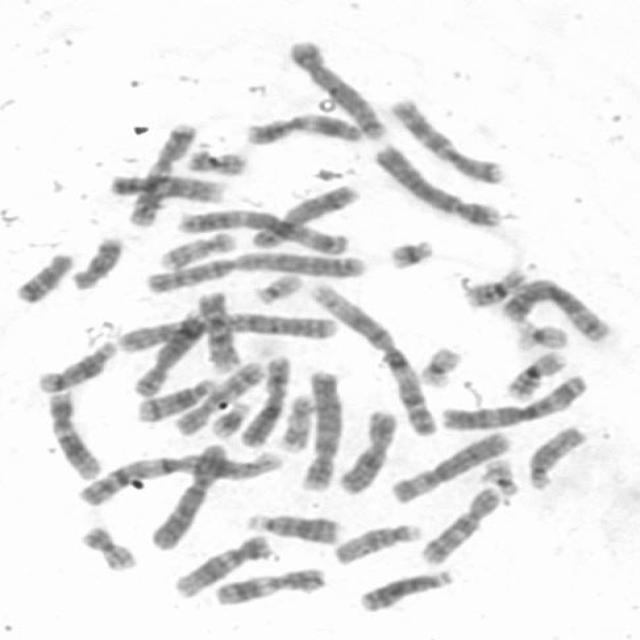A1: (302, 275, 438, 438), (71, 445, 285, 509)
A2: (142, 249, 368, 294), (113, 312, 341, 356)
A3: (436, 369, 590, 432), (171, 204, 352, 257)
B4: (368, 138, 504, 228), (295, 364, 345, 494)
B5: (285, 33, 387, 141), (495, 275, 614, 345)
C10: (168, 356, 264, 438), (415, 481, 504, 566)
C11: (211, 564, 328, 606), (240, 110, 367, 146)
C12: (167, 530, 273, 600), (44, 389, 106, 482)
C6: (386, 425, 516, 505), (142, 436, 229, 550)
C7: (386, 92, 508, 185), (123, 117, 200, 229)
C8: (246, 180, 361, 250), (125, 306, 206, 398)
C9: (101, 169, 228, 205), (194, 286, 242, 372)
D13: (352, 566, 456, 614), (241, 508, 342, 544)
D14: (34, 335, 120, 394), (132, 373, 220, 423)
D15: (521, 421, 590, 492), (327, 517, 424, 566)
E16: (499, 346, 568, 402), (460, 263, 530, 309)
E17: (154, 226, 237, 272), (276, 391, 314, 452)
E18: (8, 245, 76, 305), (67, 232, 125, 291)
F19: (412, 342, 464, 390), (508, 317, 570, 352)
F20: (75, 520, 141, 572), (182, 145, 249, 176)
G21: (381, 233, 438, 272), (205, 395, 253, 440)
G22: (250, 268, 304, 306), (476, 454, 522, 497)
X: (333, 406, 399, 495), (236, 350, 294, 448)
